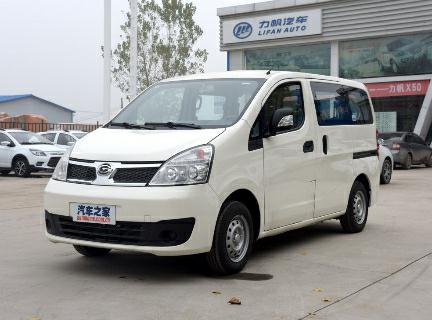广汽吉奥-星朗: (32, 63, 391, 278)
